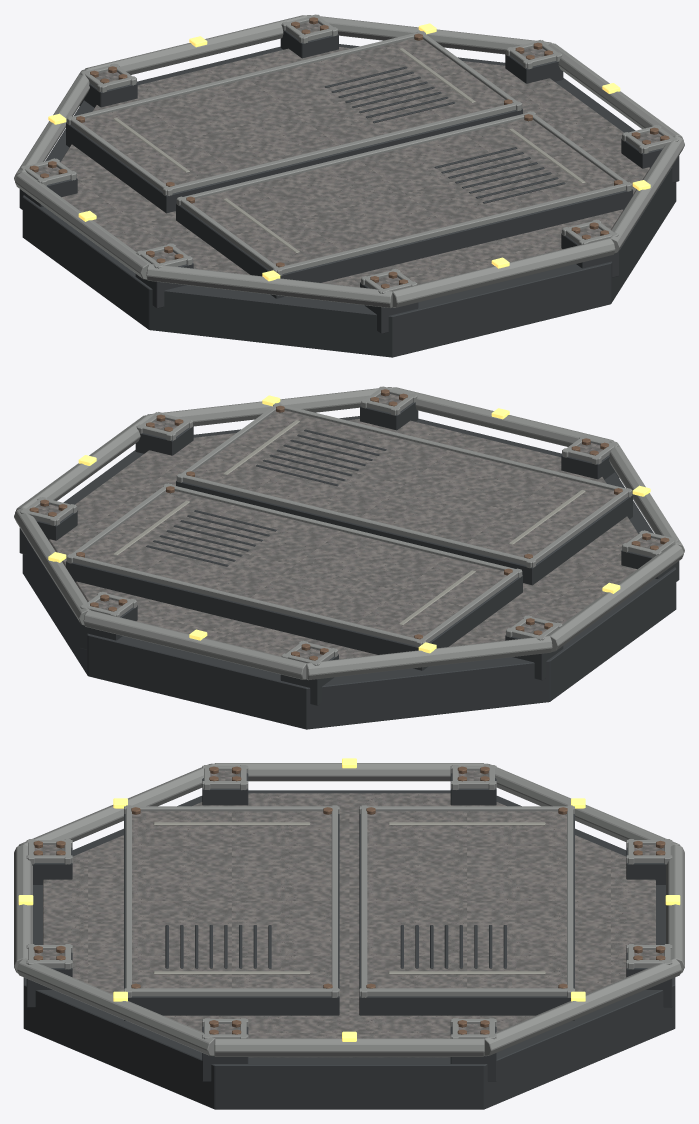
File: landing-pad.glb
The picture shows the model from 3 angles, top to bottom: view 1: azimuth 30°, elevation 25°; view 2: azimuth 150°, elevation 25°; view 3: azimuth 270°, elevation 25°; orthographic projection. The views are drawn at different scales.
Parts seen in each view (by area): view 1: landing-pad • editable solid geometry, Sliding landing plate • editable solid geometry, Sliding landing plate.001 • editable solid geometry; view 2: landing-pad • editable solid geometry, Sliding landing plate.001 • editable solid geometry, Sliding landing plate • editable solid geometry; view 3: landing-pad • editable solid geometry, Sliding landing plate • editable solid geometry, Sliding landing plate.001 • editable solid geometry.
Part boxes in pixels (left/top/right/bottom): landing-pad • editable solid geometry: left=14, top=14, right=684, bottom=357; Sliding landing plate • editable solid geometry: left=176, top=111, right=632, bottom=298; Sliding landing plate.001 • editable solid geometry: left=66, top=31, right=522, bottom=213; landing-pad • editable solid geometry: left=14, top=386, right=684, bottom=729; Sliding landing plate.001 • editable solid geometry: left=66, top=483, right=522, bottom=670; Sliding landing plate • editable solid geometry: left=176, top=403, right=632, bottom=585; landing-pad • editable solid geometry: left=14, top=758, right=684, bottom=1109; Sliding landing plate • editable solid geometry: left=124, top=805, right=339, bottom=1020; Sliding landing plate.001 • editable solid geometry: left=359, top=805, right=574, bottom=1020.
Bounding box in the file's own units: 6.85 × 0.8425 × 6.85.
6 materials, 1 textured.
